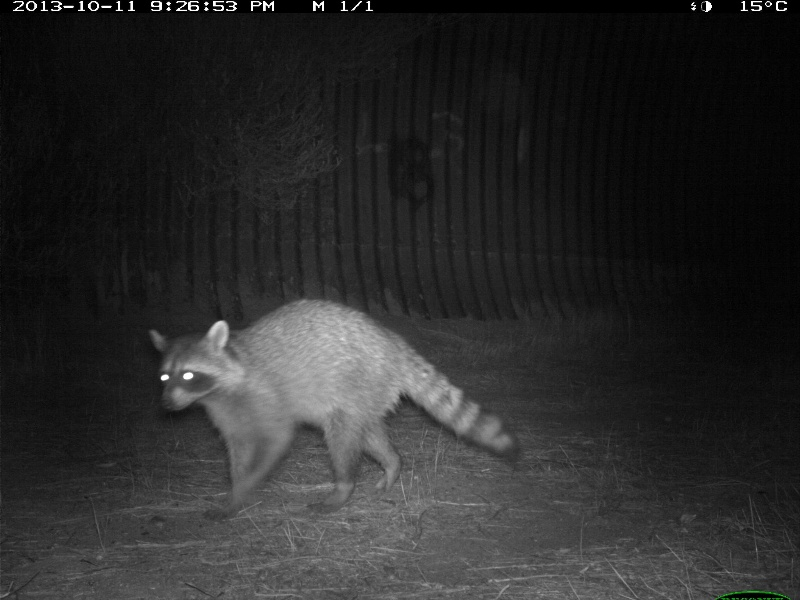raccoon: (144, 296, 524, 516)
